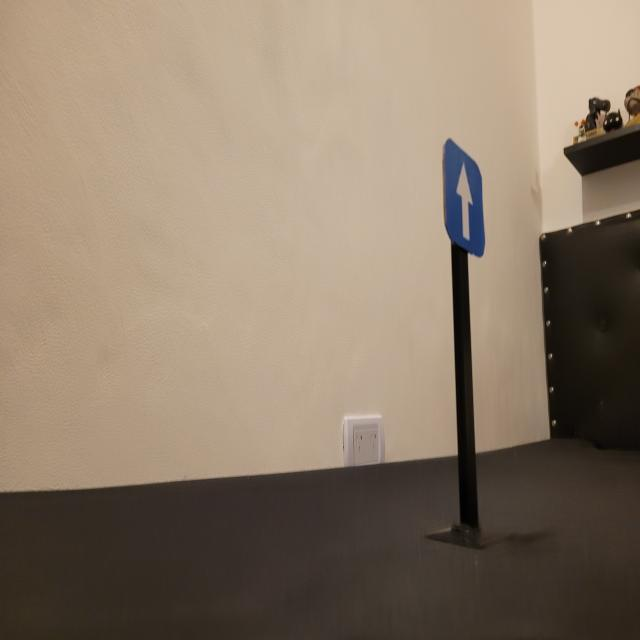one_way: (440, 137, 488, 258)
